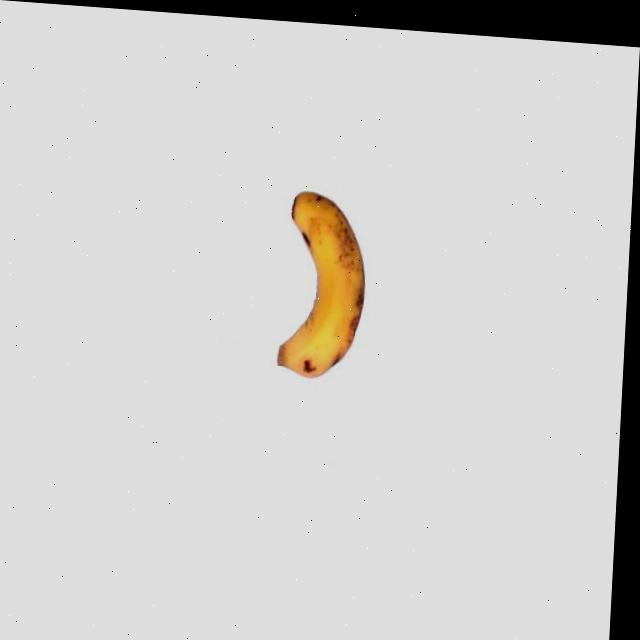banana: (274, 186, 373, 385)
